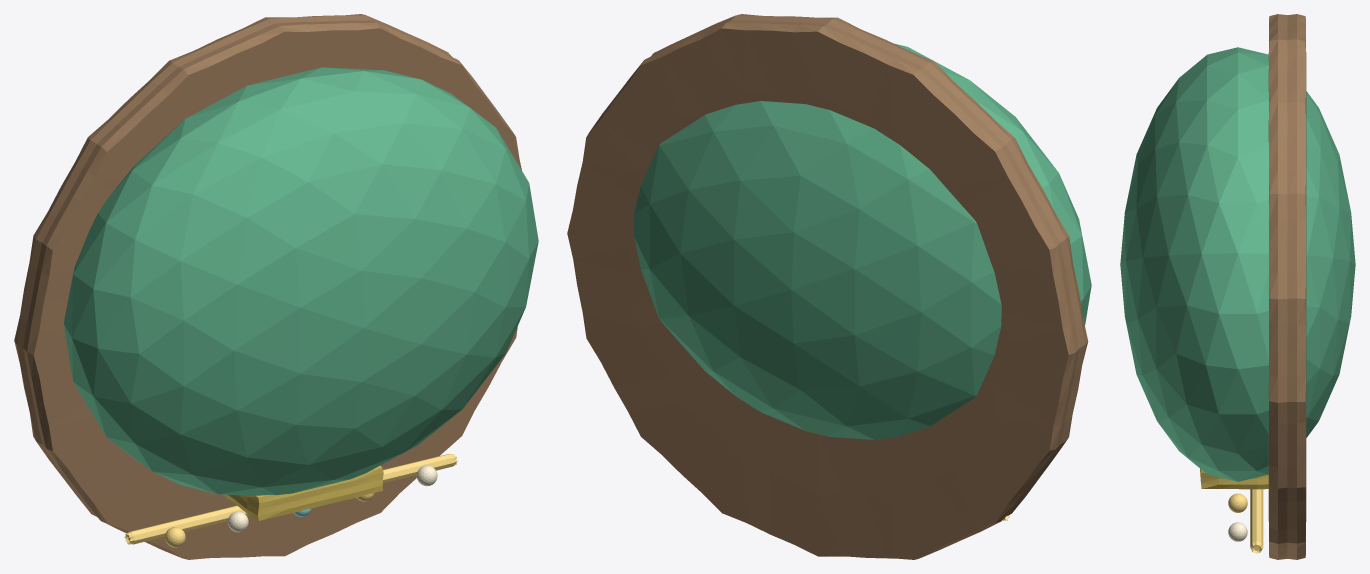
The model's file is gorro-explorador.glb.
3 views of the same model, side by side, from view 1: azimuth 30°, elevation 25°; view 2: azimuth 150°, elevation 25°; view 3: azimuth 270°, elevation 25° (orthographic). The views are drawn at different scales.
Parts seen in each view (by area): view 1: gorro-explorador_00, gorro-explorador_01, gorro-explorador_02, Detalle_01; view 2: gorro-explorador_01, gorro-explorador_00; view 3: gorro-explorador_00, gorro-explorador_01, Detalle_01, gorro-explorador_02, Detalle_05, Detalle_06.
Boxes of the visible parts, x1,y1,x2,y2 form: gorro-explorador_00: (64,67,538,495); gorro-explorador_01: (14,14,521,559); gorro-explorador_02: (223,465,383,520); Detalle_01: (124,454,457,544); gorro-explorador_01: (567,14,1088,559); gorro-explorador_00: (634,43,1091,439); gorro-explorador_00: (1120,47,1355,481); gorro-explorador_01: (1268,14,1306,559); Detalle_01: (1250,489,1263,553); gorro-explorador_02: (1200,469,1268,489); Detalle_05: (1228,493,1247,512); Detalle_06: (1228,522,1247,541).
Bounding box in the file's own units: 0.6889 × 0.6889 × 0.2967.
